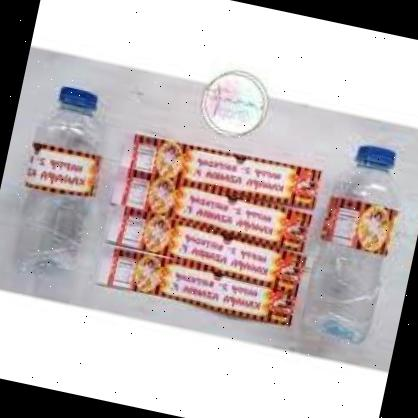bottle: (0, 68, 145, 306), (289, 128, 418, 361)
cap: (352, 139, 403, 174), (52, 84, 100, 116)
label: (319, 194, 400, 256), (22, 140, 102, 198)
